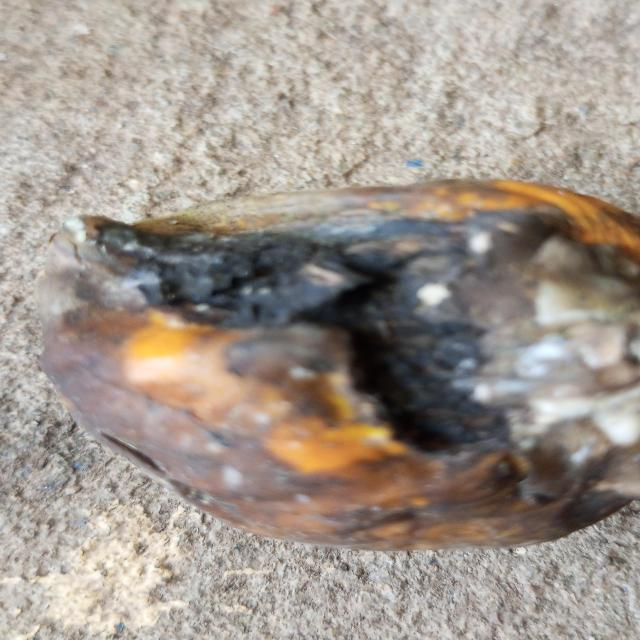damaged: (38, 178, 640, 557)
